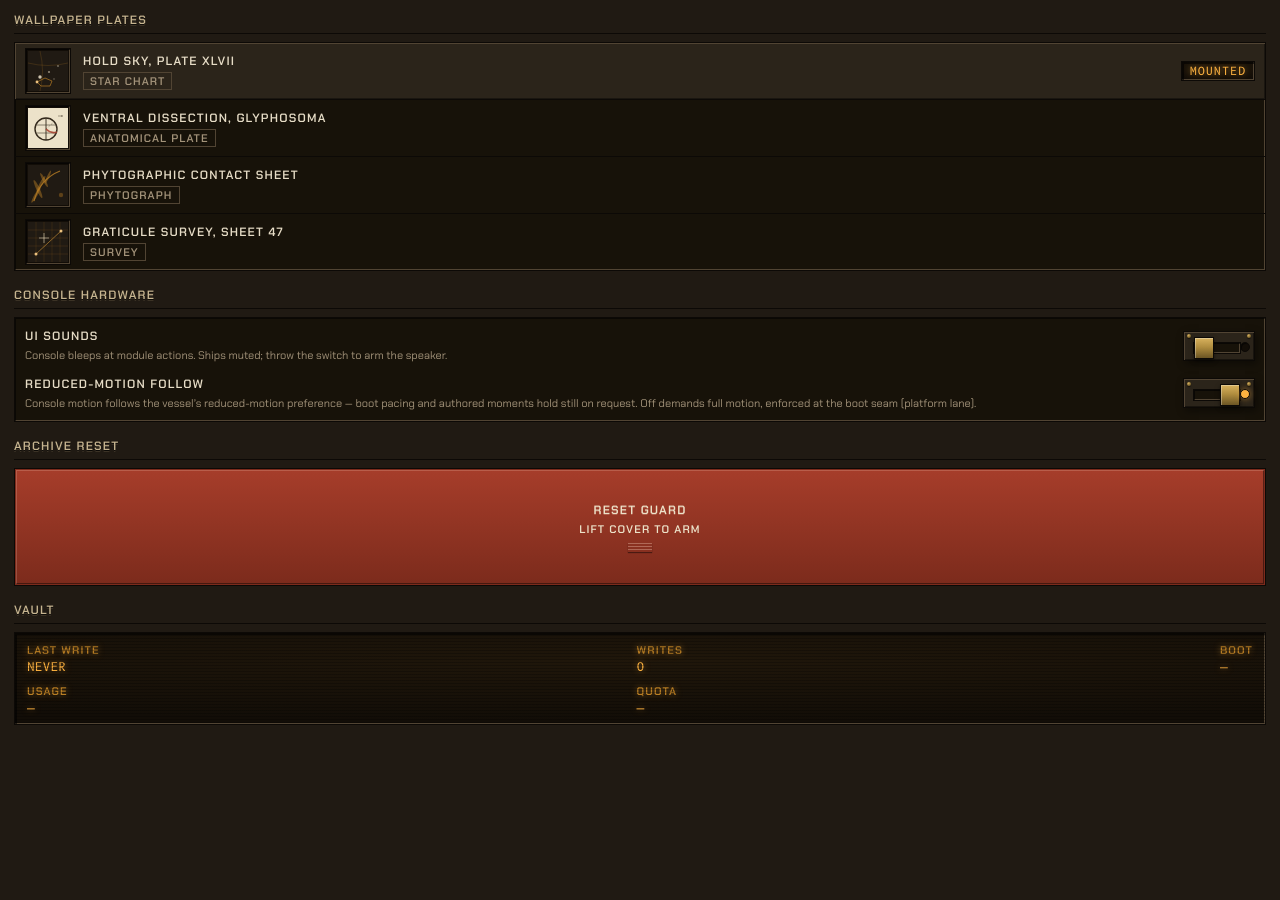
AP-4 · guarded reset (cover → strip → throw) › lifting the cover arms the switch and names the consequences
Click the button "Reset guard Lift cover to arm" at coordinates (640, 527), box left=15, top=469, right=1265, bottom=585
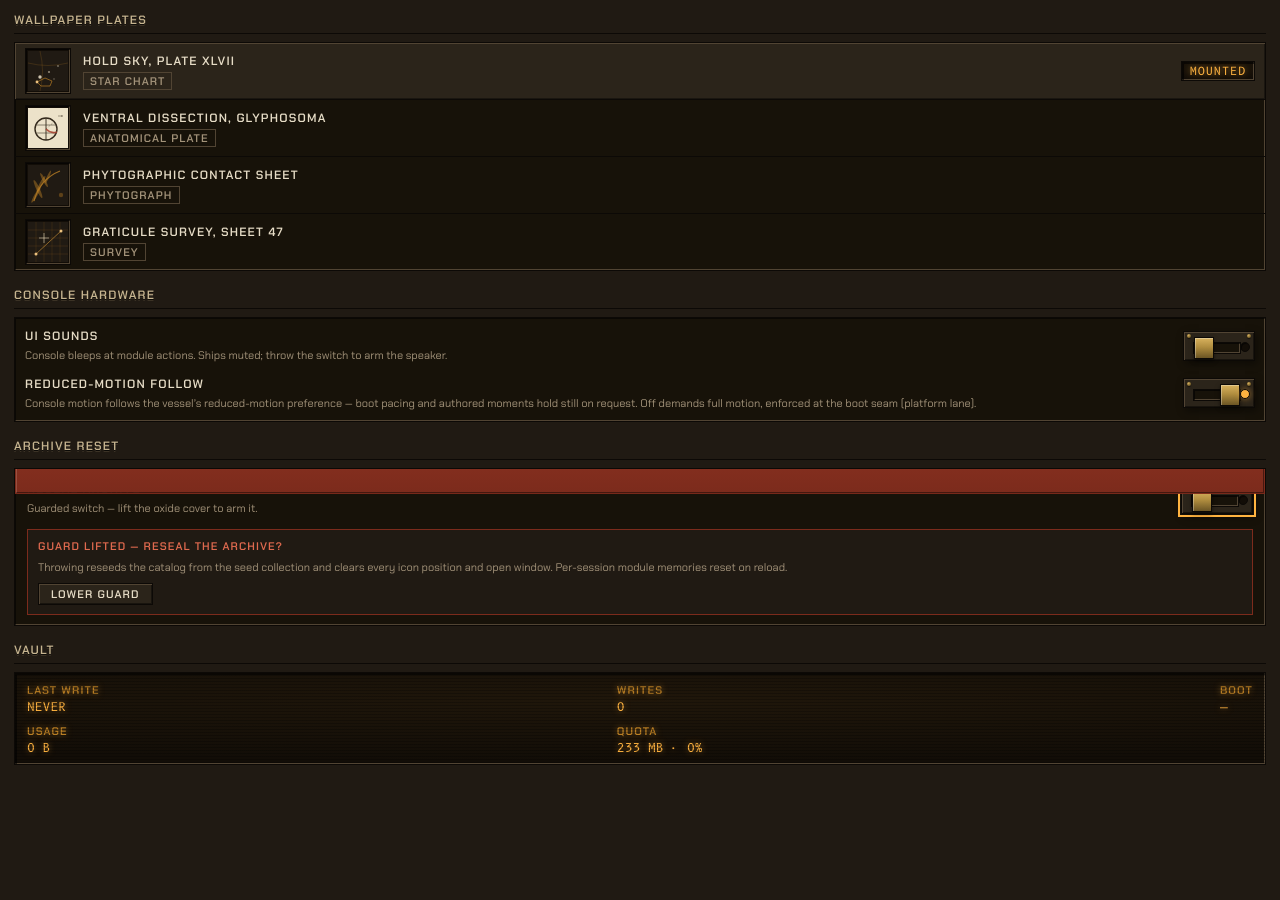
expect the element that starts with "Guard lifted — reseal the archive?" shows "reseeds the catalog": met, box left=38, top=560, right=787, bottom=574
expect the element that starts with "Guard lifted — reseal the archive?" shows "icon position and open window": met, box left=38, top=560, right=787, bottom=574
expect the element that starts with "Guard lifted — reseal the archive?" shows "reset on reload": met, box left=38, top=560, right=787, bottom=574
